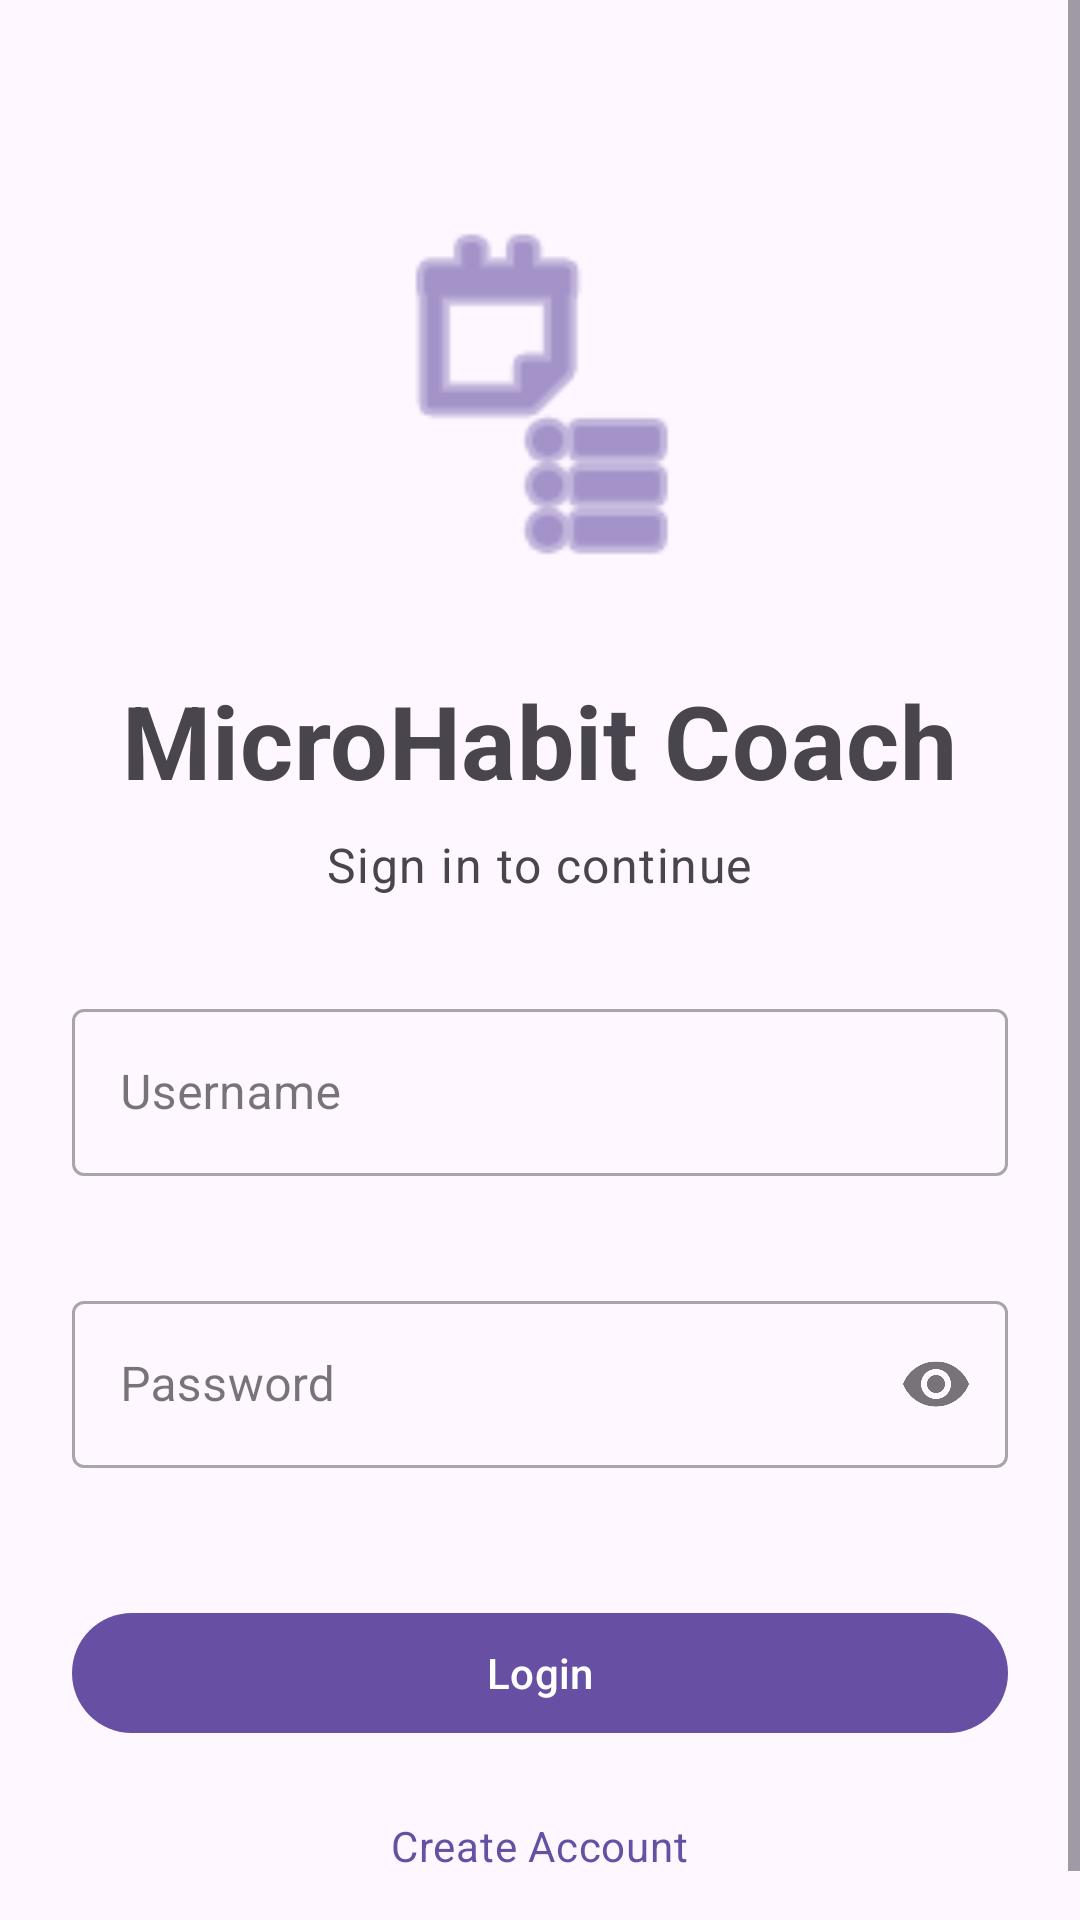

Named icons in this screenshot (1080 x 1920) and their centers, [x,y]:
agenda: [542,394]
